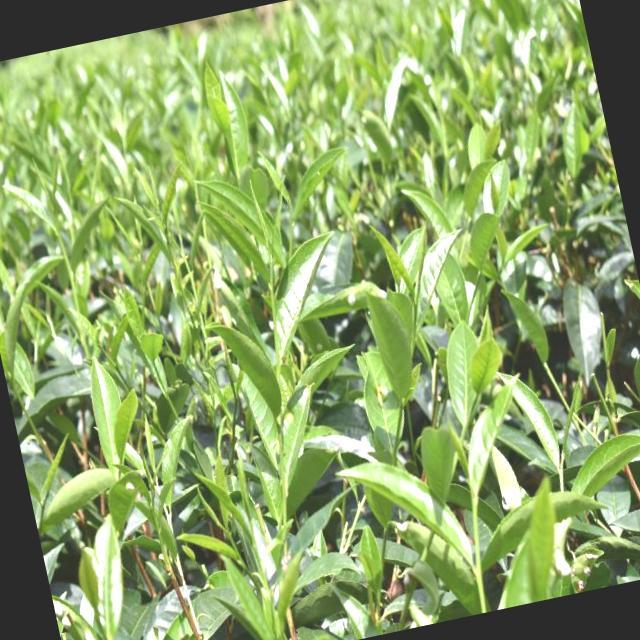Stem: (472, 503, 478, 521)
